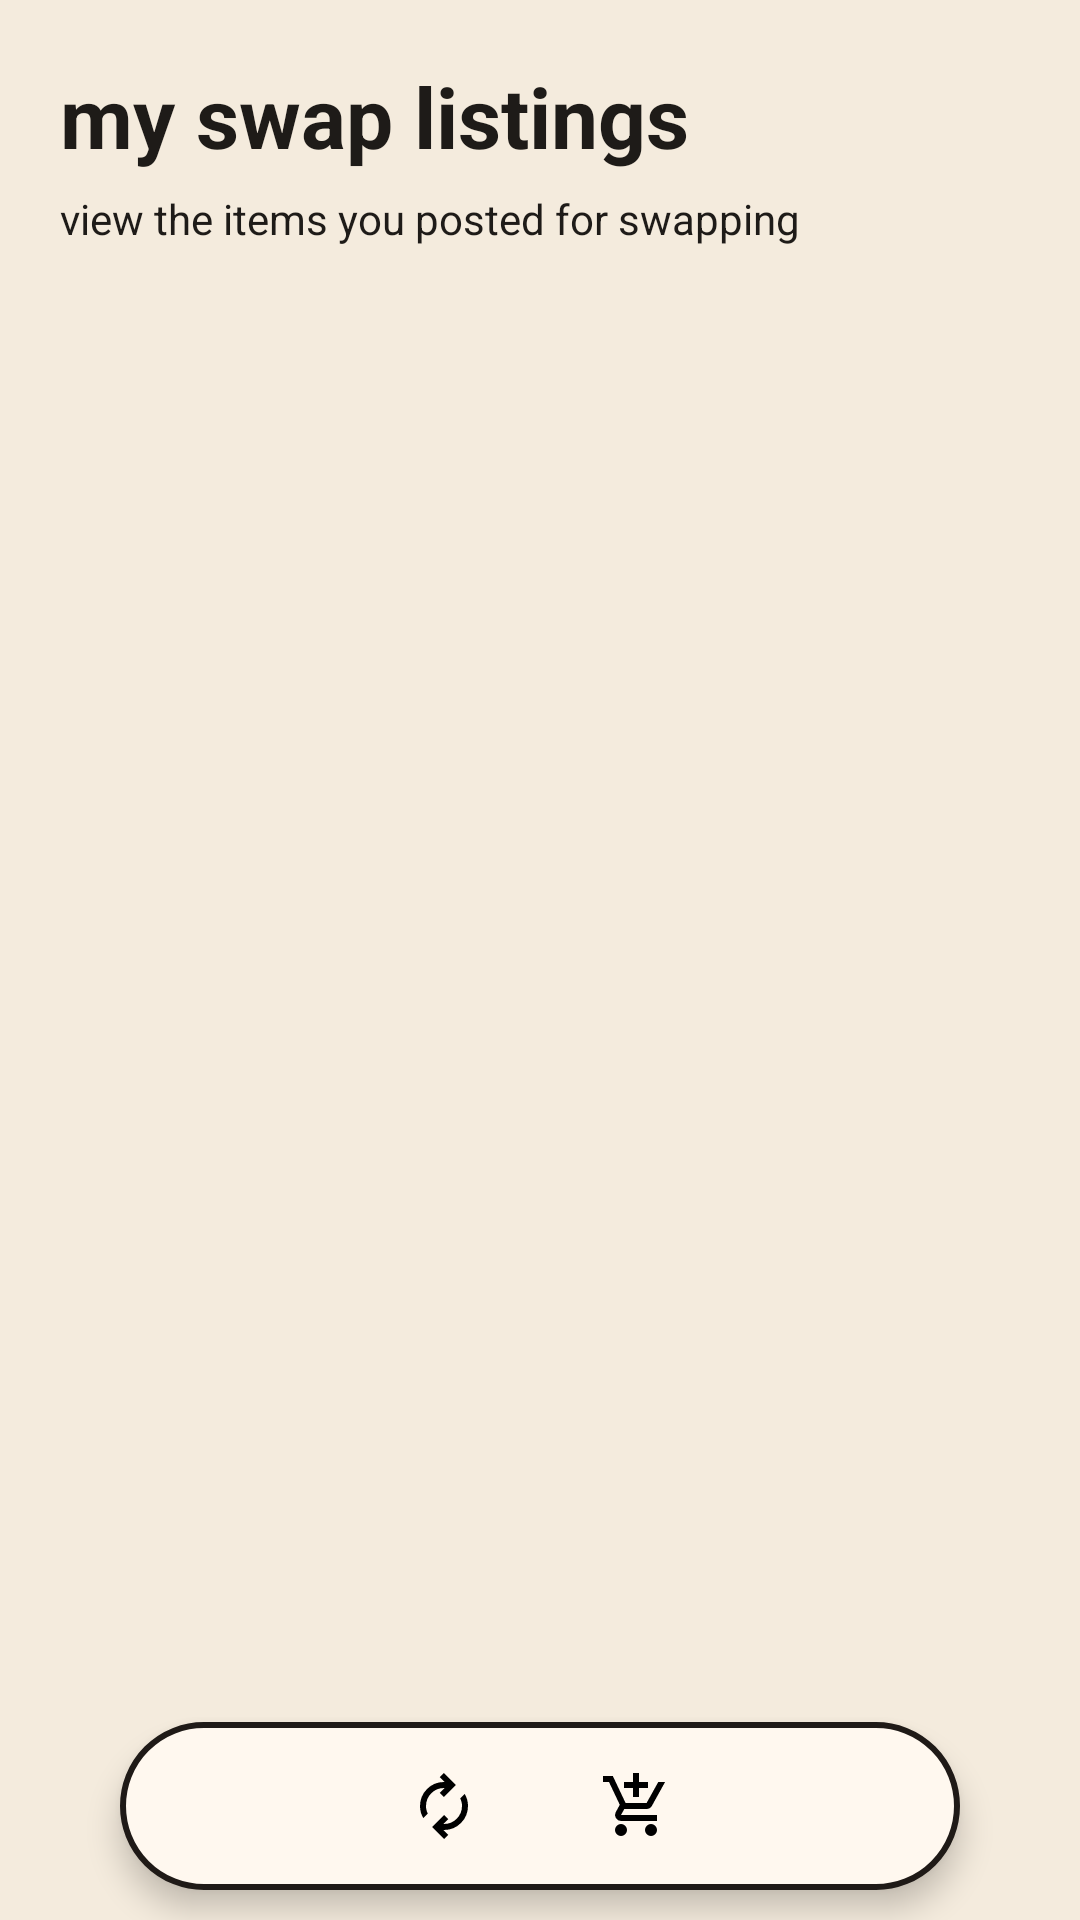

Screen size 1080 x 1920. Icon name, then its box in pixels as rect(x1, y1, x2, y2):
Cart: rect(603, 1773, 665, 1836)
Swap: rect(420, 1773, 468, 1839)
